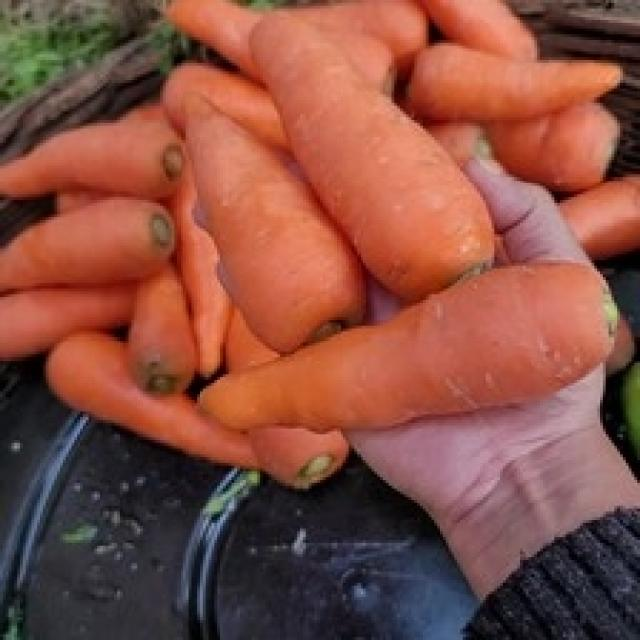carrot: (0, 0, 634, 480)
